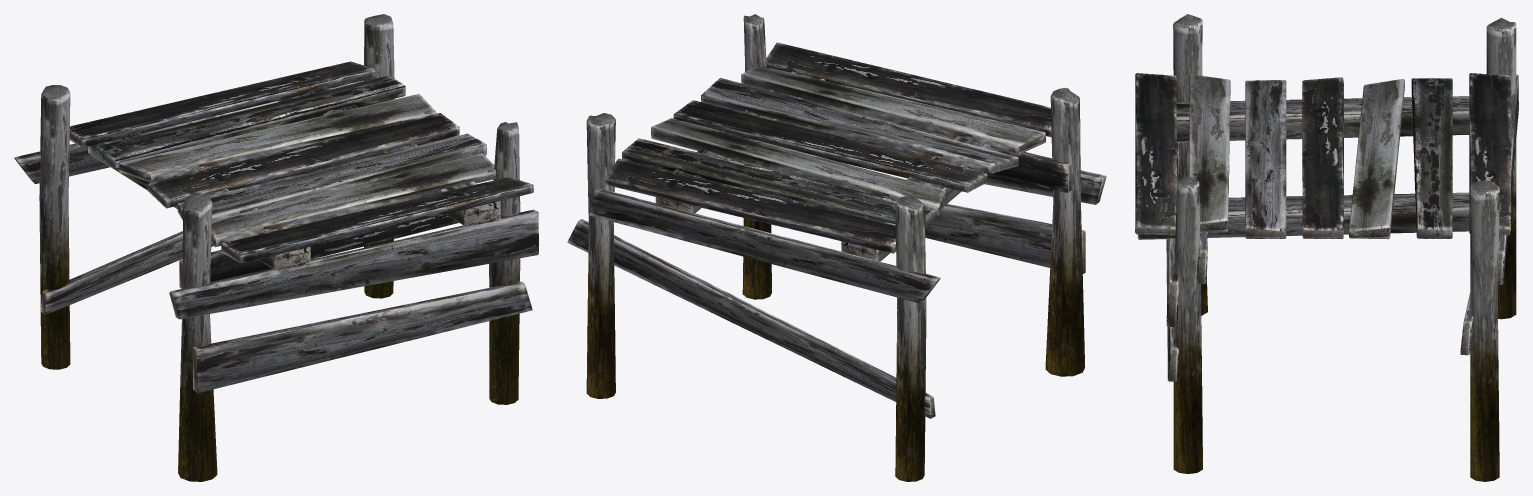
The model's file is dock3.fbx.
3 views of the same model, side by side, from view 1: azimuth 30°, elevation 25°; view 2: azimuth 150°, elevation 25°; view 3: azimuth 270°, elevation 25° (orthographic). The views are drawn at different scales.
Parts seen in each view (by area): view 1: Mesh; view 2: Mesh; view 3: Mesh.
Part boxes in pixels (x1=…): Mesh: x1=14, y1=14, x2=538, y2=481; Mesh: x1=567, y1=14, x2=1106, y2=481; Mesh: x1=1135, y1=14, x2=1518, y2=481.
Bounding box in the file's own units: 499 × 337 × 396.
